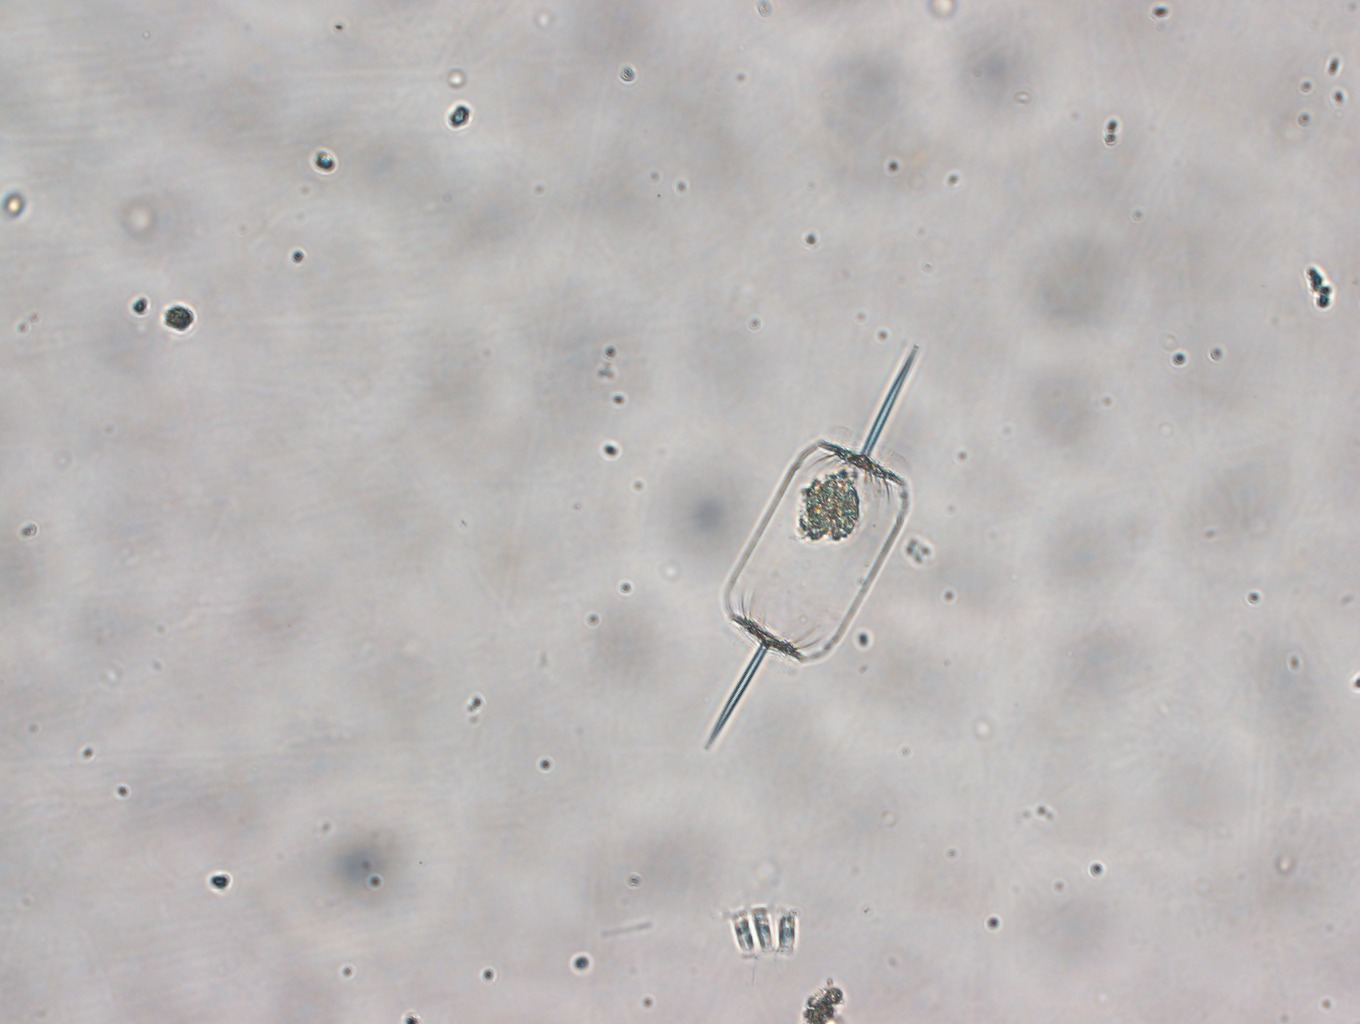ditylum: (699, 342, 921, 762)
